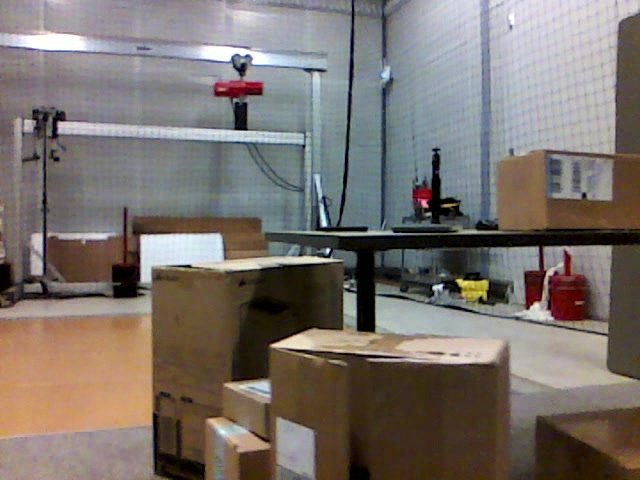box: (154, 256, 343, 467), (270, 327, 511, 480), (498, 149, 639, 229), (536, 410, 640, 476), (204, 418, 274, 480), (222, 378, 273, 437)
